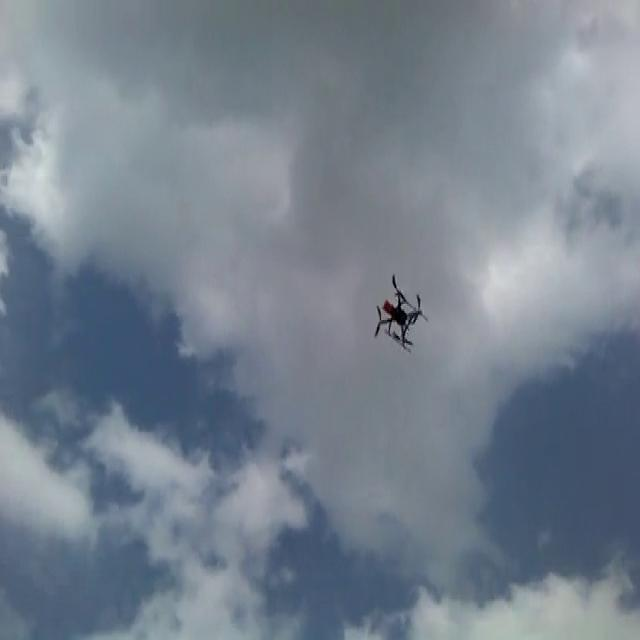drone: (372, 268, 428, 354)
